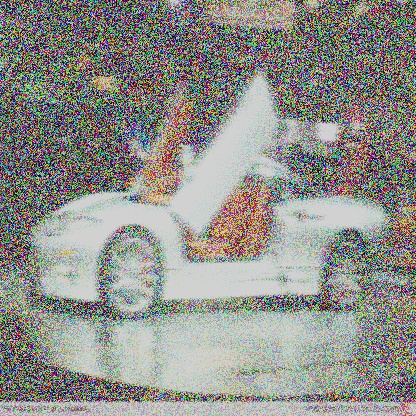Vehicle: (25, 64, 388, 322)
